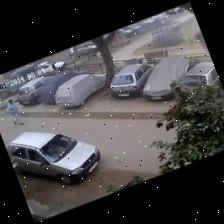person: (7, 99, 23, 124)
